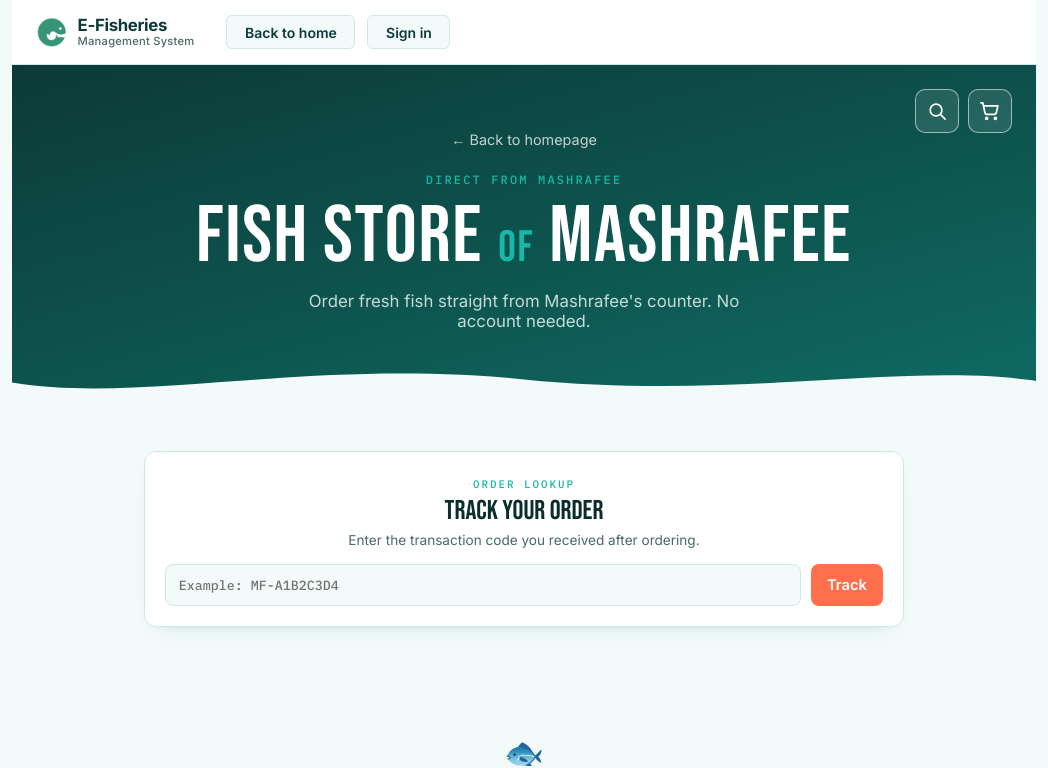
Test: FishStorePage › tracks an existing transaction code
Check: the heading "Track your order" is shown, box [445,495,603,527]
Type "mf-abc123" into the field named "Transaction code" at [483, 585], box [165,564,801,606]
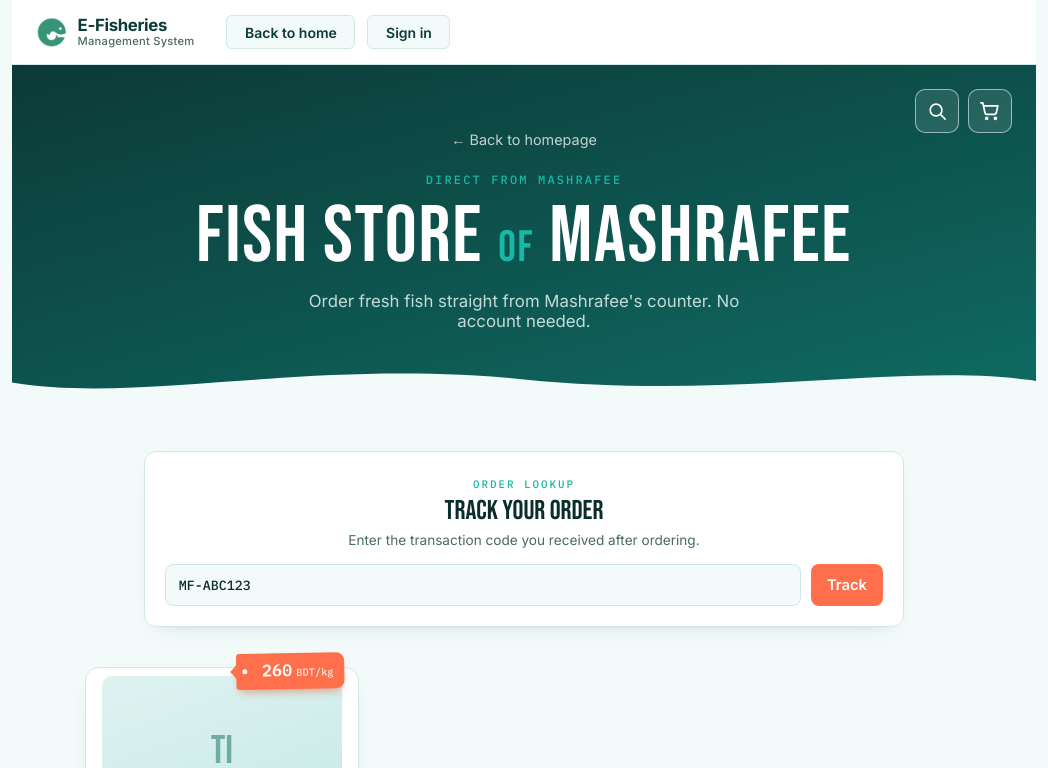
Click the button "Track" at [847, 585], box [811,564,883,606]
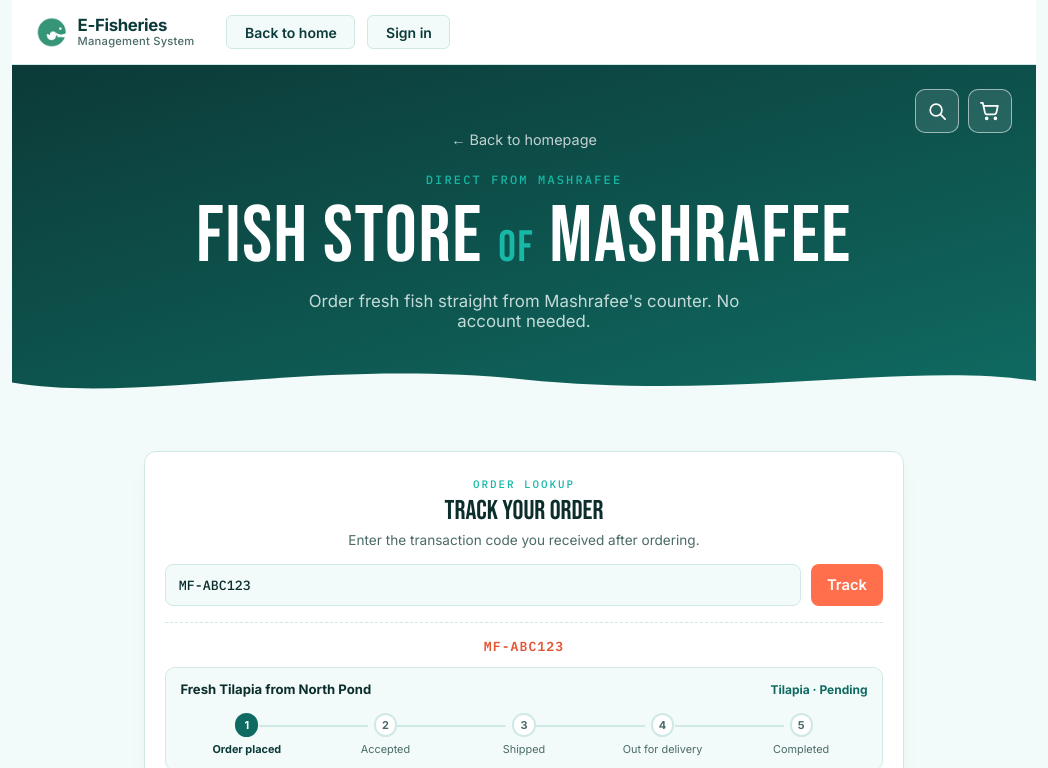
Check: the text "Order placed" is shown, box [212,742,281,756]
